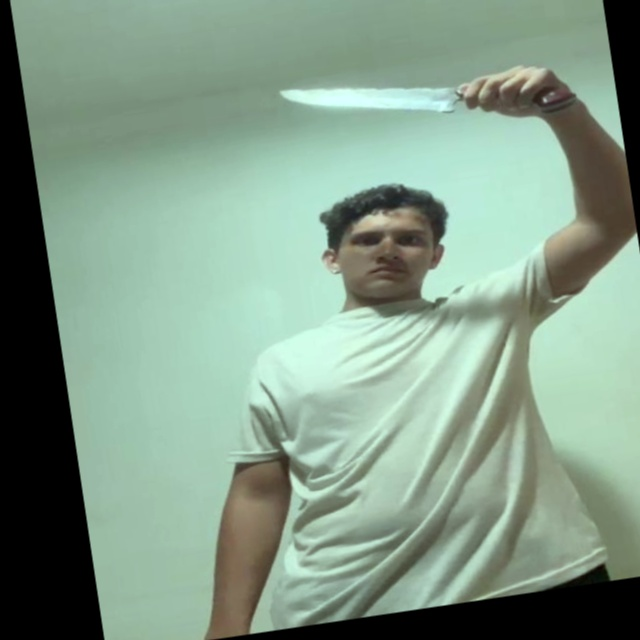Sharp-Object: (278, 65, 454, 134)
